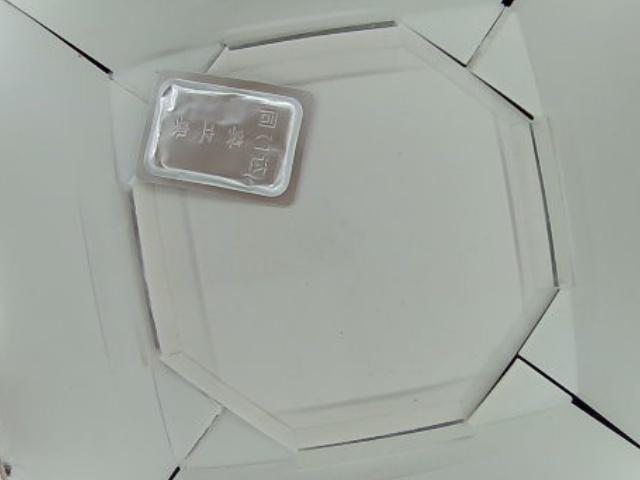Medicine: (140, 67, 318, 206)
